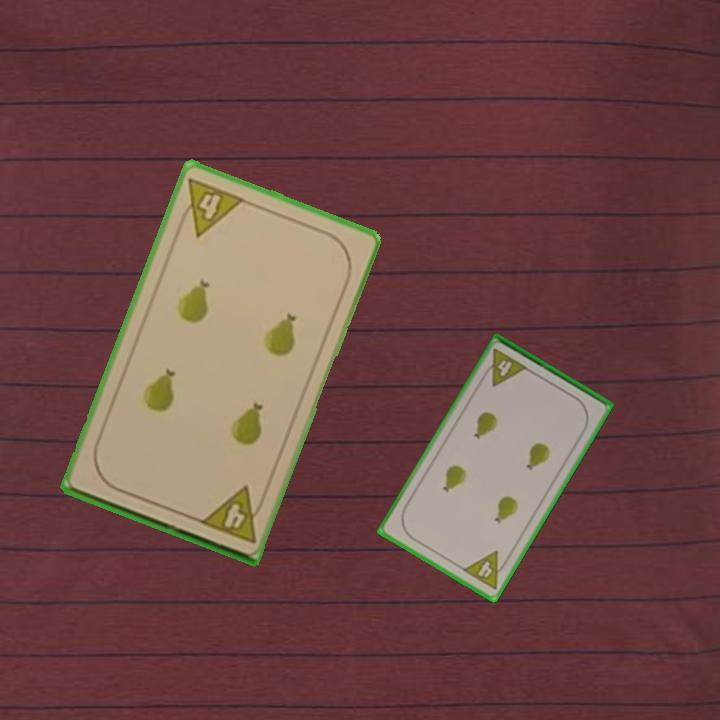4p: (173, 173, 248, 240), (196, 482, 269, 546), (459, 547, 512, 593), (478, 345, 530, 389)
